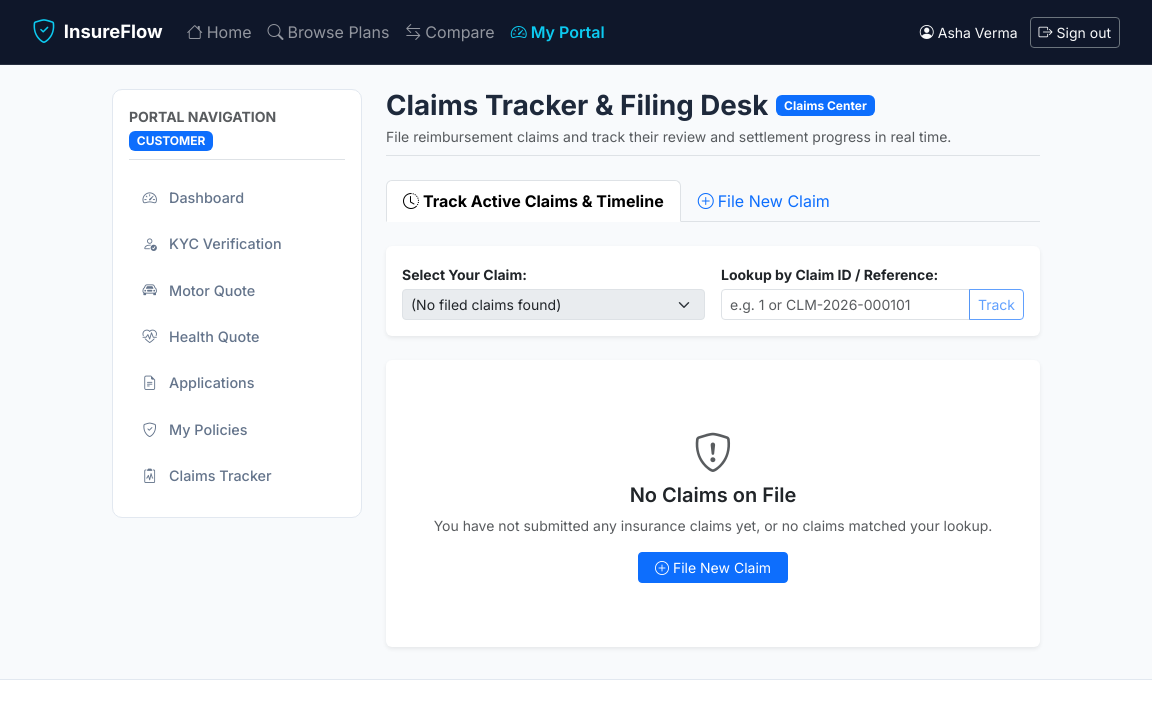
Scenario: CustomerClaimsView Component (P4-16 / INS-F-012, INS-F-013, INS-F-015, INS-F-023) › switches to File New Claim tab and loads active policies
Click the button with test id "tab-file-claim" at (764, 201), box [681,180,847,222]
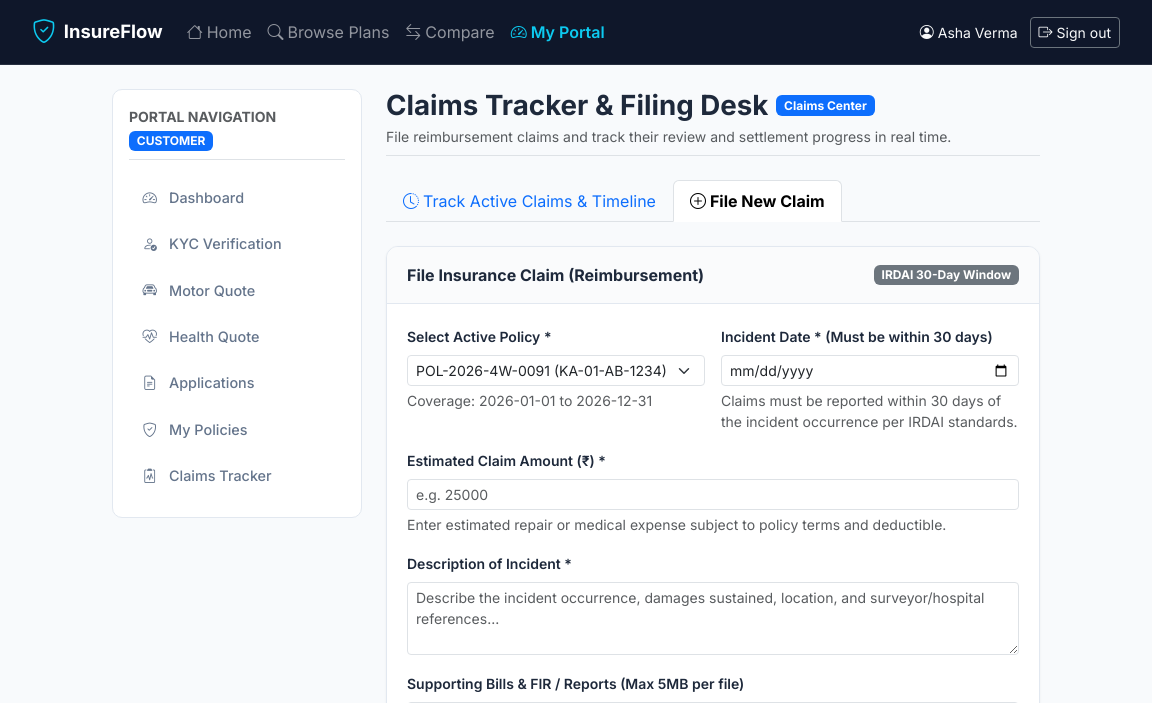
Now the dropdown with test id "claim-policy-select" is shown, box [407,355,705,386]
